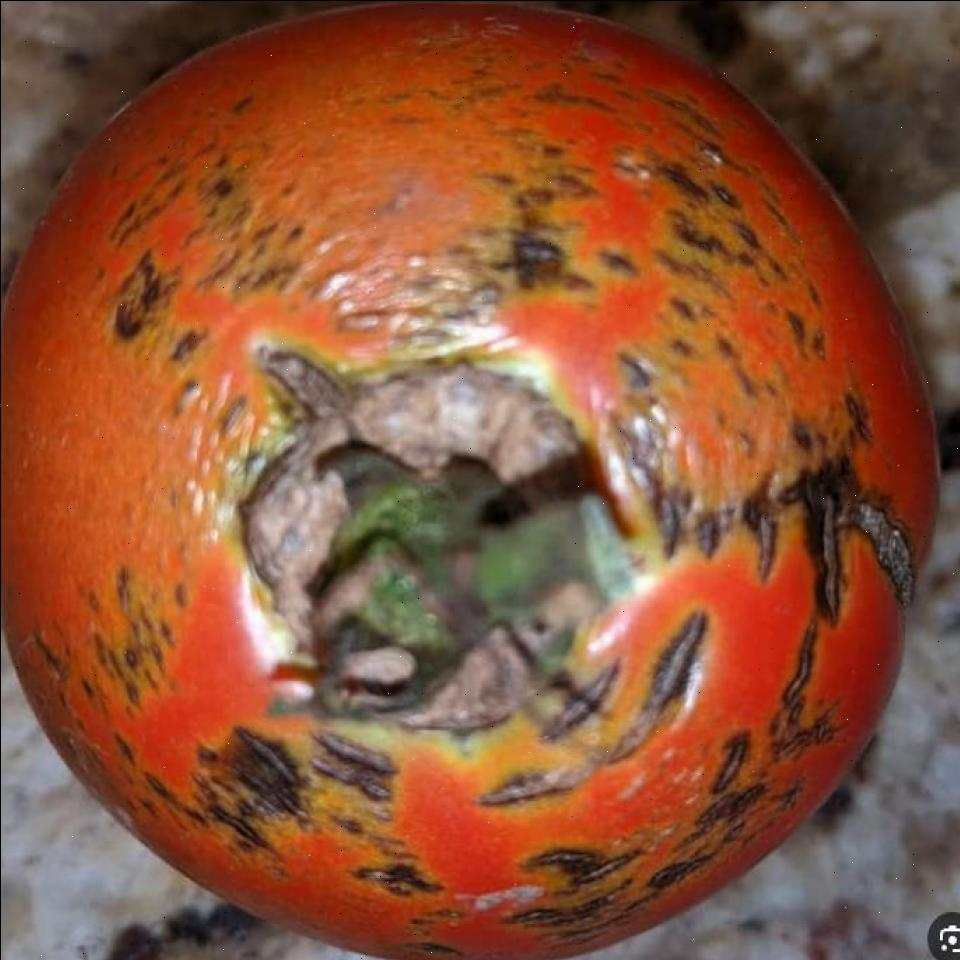Cracking: (510, 624, 841, 940), (641, 420, 920, 630), (474, 590, 730, 800), (162, 731, 430, 872), (37, 539, 181, 743), (638, 116, 768, 308), (488, 138, 622, 294), (426, 15, 552, 122), (97, 236, 220, 340), (376, 848, 468, 960)
